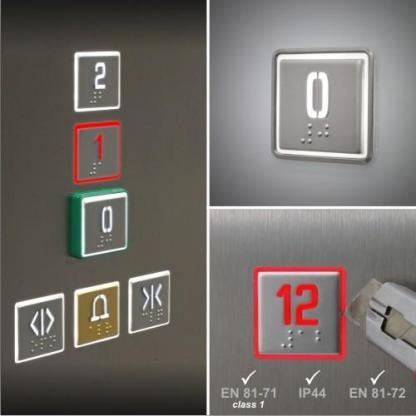0: (266, 43, 376, 166), (68, 187, 130, 259)
1: (68, 118, 126, 186)
12: (251, 264, 346, 362)
2: (70, 48, 121, 112)
alarm: (70, 277, 121, 349)
close: (124, 266, 172, 336)
open: (9, 290, 66, 364)
